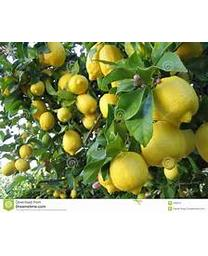lemon: (150, 75, 199, 124), (140, 123, 186, 163), (110, 152, 149, 193), (86, 44, 107, 81), (99, 46, 124, 74), (45, 43, 66, 68), (75, 94, 98, 116), (62, 130, 81, 155), (67, 75, 89, 94), (30, 78, 45, 95), (56, 107, 72, 121), (15, 158, 30, 172), (41, 114, 53, 129), (19, 145, 31, 160), (3, 162, 16, 175)
